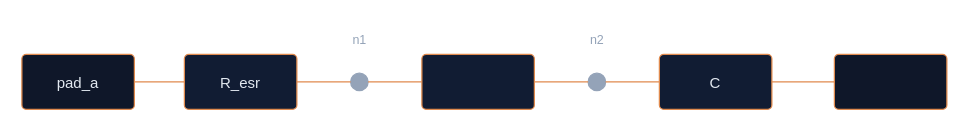
Some shapes in this 969 by 131 pixel diagram are drawn without their labels. The centre of each missing label's shape, as x and y in pixels:
"L_esl" goes at pixel 477 81.
"pad_b" goes at pixel 890 81.
